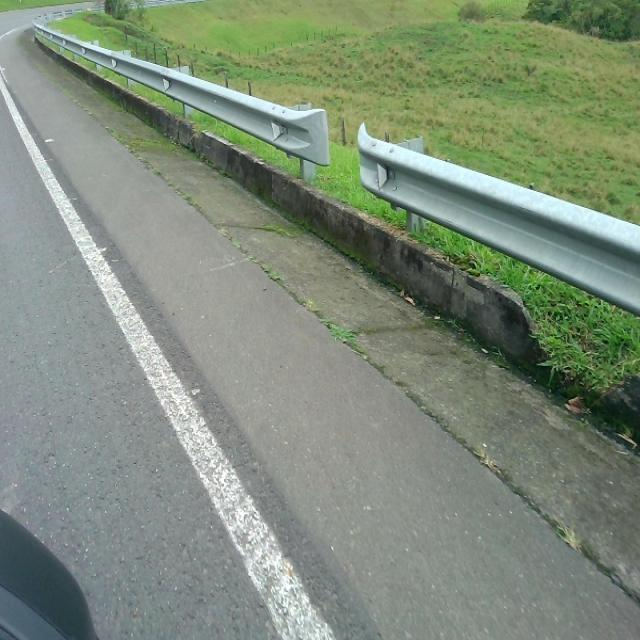DITCH: (3, 21, 638, 637)
